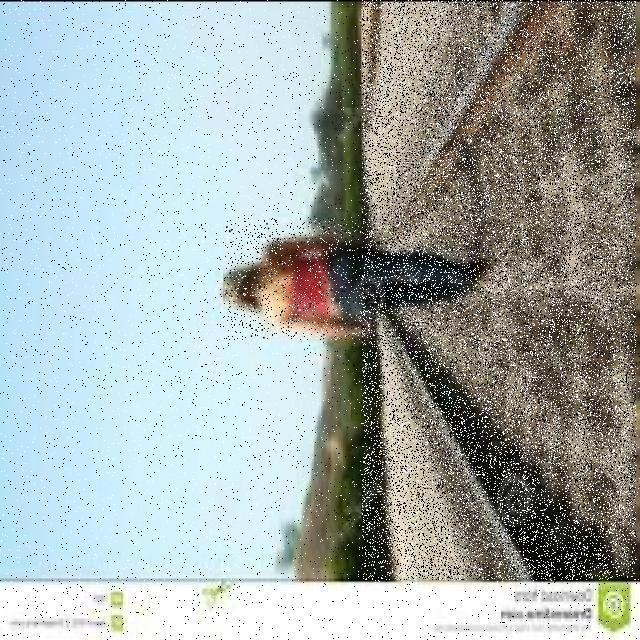danger: (223, 218, 506, 340)
rail: (362, 0, 636, 580)
